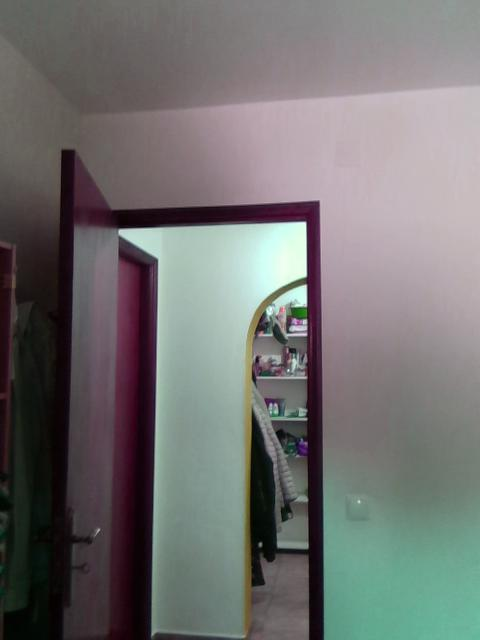open_door: (102, 199, 325, 639)
